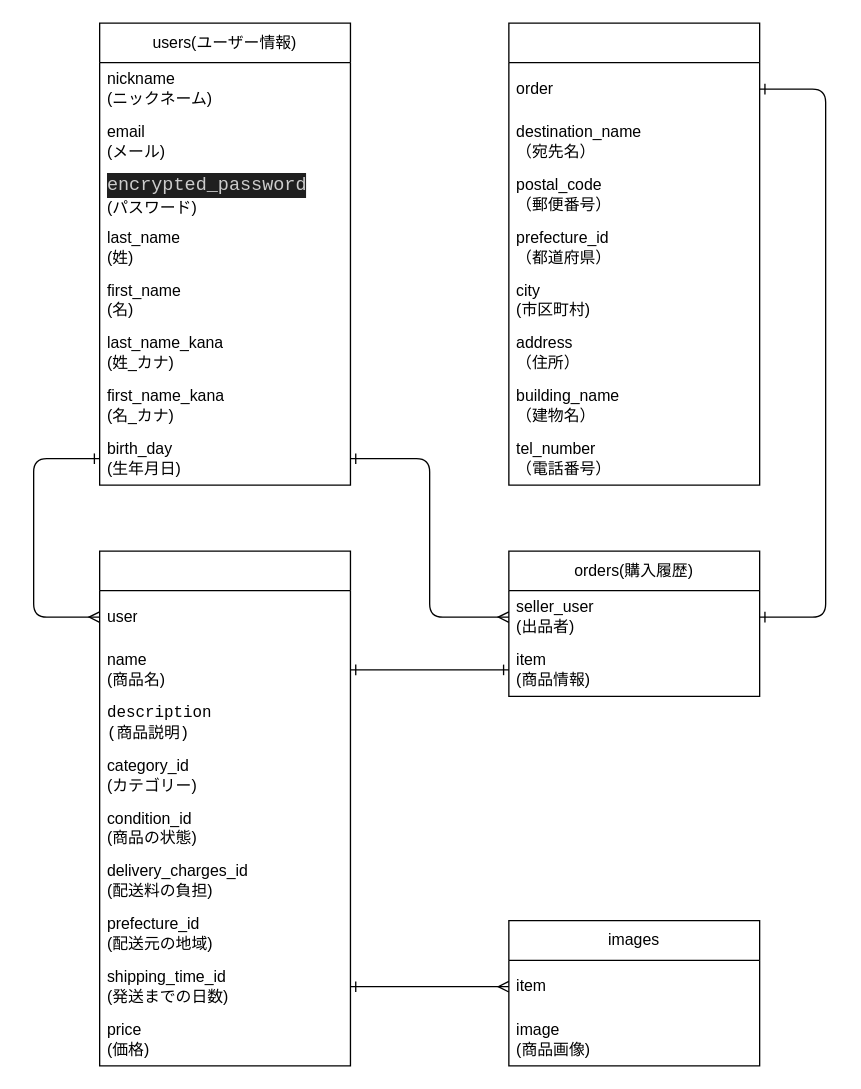
The diagram is 861 pixels wide and 1089 high, and some of its shapes have lost their labels. Each missing label, with the box of its shape:
addresses(発送先情報): (508, 22, 760, 485)
items(商品情報): (98, 550, 350, 1066)
